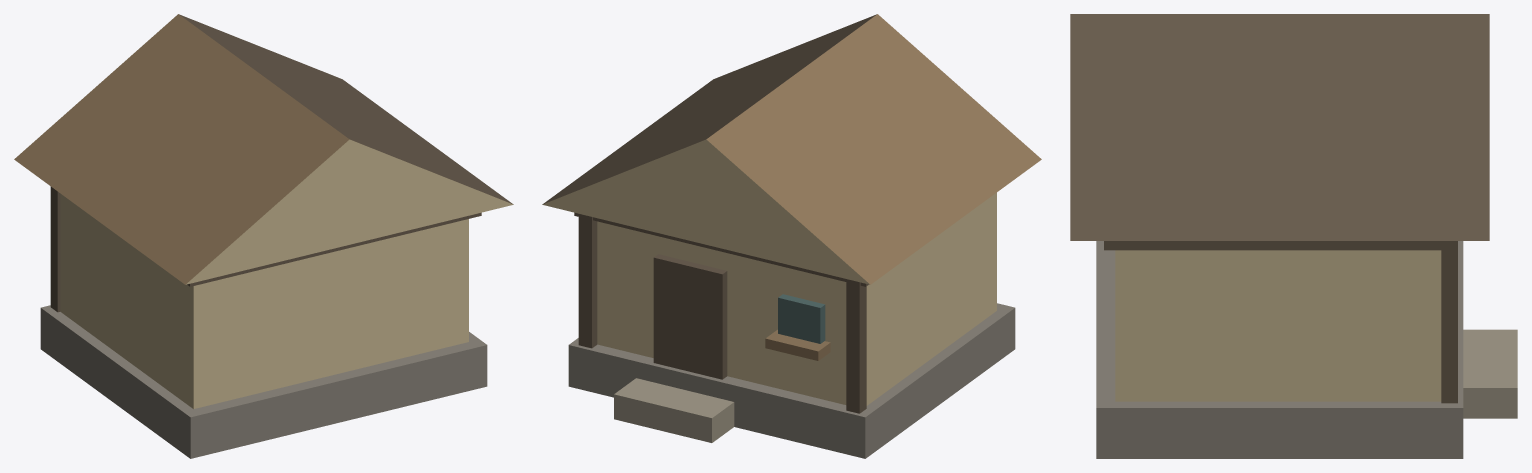
File: Building_SecludedCottage.fbx
3 renders of one model, left to right at view 1: azimuth 30°, elevation 25°; view 2: azimuth 150°, elevation 25°; view 3: azimuth 270°, elevation 25°, orthographic. The views are drawn at different scales.
Parts seen in each view (by area): view 1: Building_SecludedCottage; view 2: Building_SecludedCottage; view 3: Building_SecludedCottage.
Part boxes in pixels (box(x1,y1,x2,y2)): Building_SecludedCottage: box(14, 14, 513, 458); Building_SecludedCottage: box(542, 14, 1041, 458); Building_SecludedCottage: box(1070, 14, 1517, 458).
Bounding box in the file's own units: 1.24 × 1.05 × 1.19.
